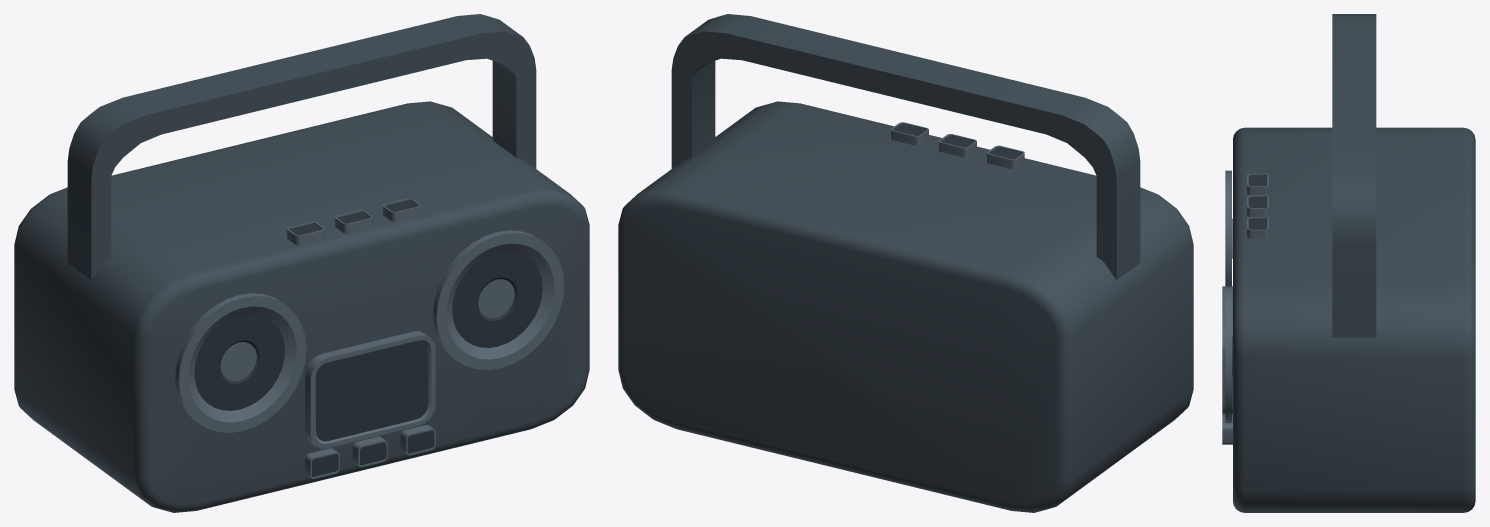
File: CassetteRecorder.fbx
3 views of the same model, side by side, from view 1: azimuth 30°, elevation 25°; view 2: azimuth 150°, elevation 25°; view 3: azimuth 270°, elevation 25° (orthographic). The views are drawn at different scales.
Parts seen in each view (by area): view 1: CassetteRecorder; view 2: CassetteRecorder; view 3: CassetteRecorder.
Boxes of the visible parts, left/top/right/bottom form: CassetteRecorder: left=14, top=14, right=589, bottom=512; CassetteRecorder: left=618, top=14, right=1193, bottom=512; CassetteRecorder: left=1222, top=14, right=1475, bottom=512.
Bounding box in the file's own units: 30 × 22.76 × 15.65.
